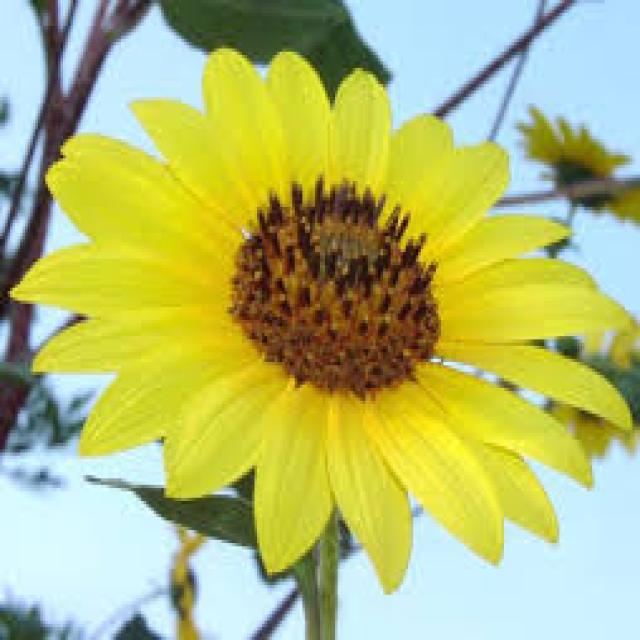sunflower: (2, 32, 640, 601), (510, 95, 640, 236), (541, 371, 640, 473)
